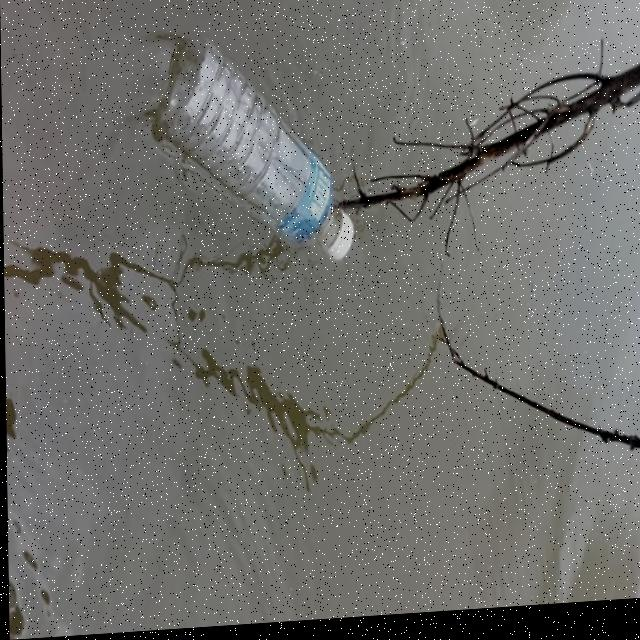waterbottle: (137, 28, 365, 280)
